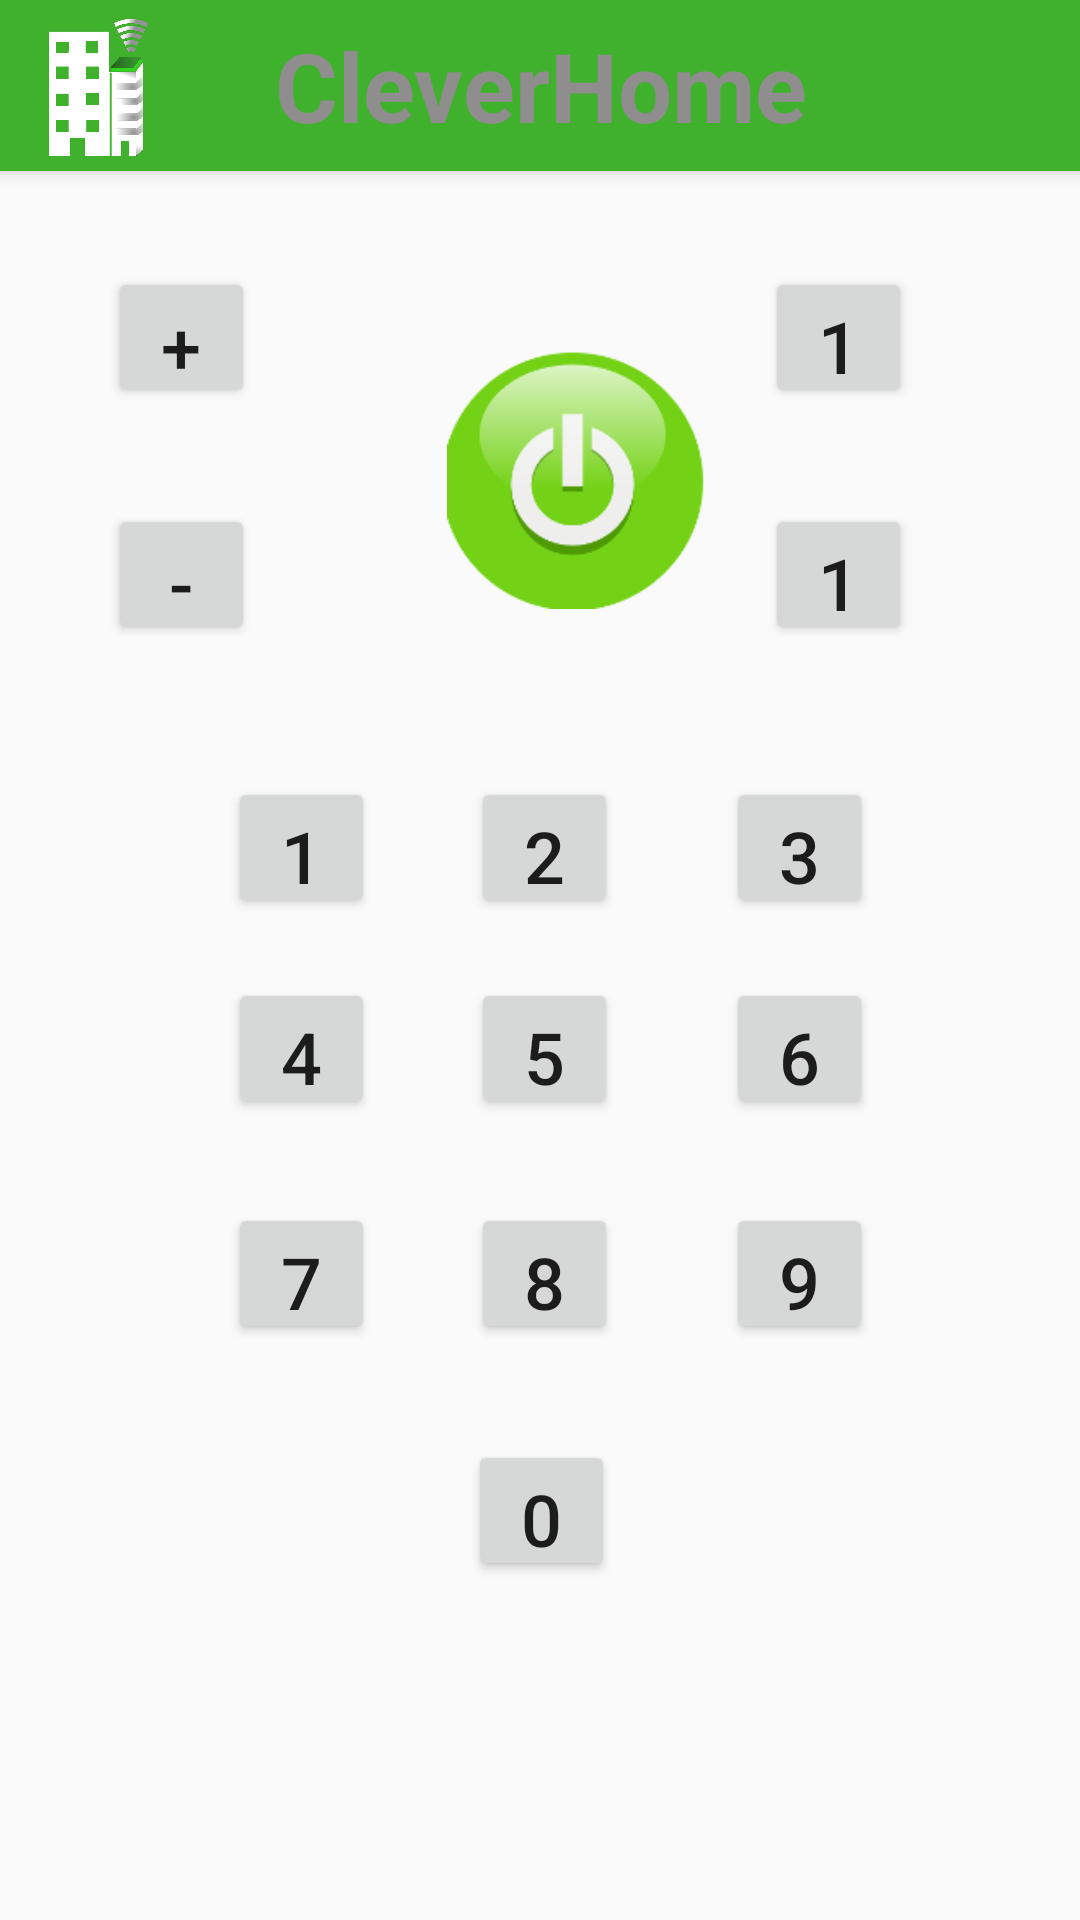

Where to tap for icons on this 1080*1920 app screen, as [x,y]:
onbutton: [575,480]
